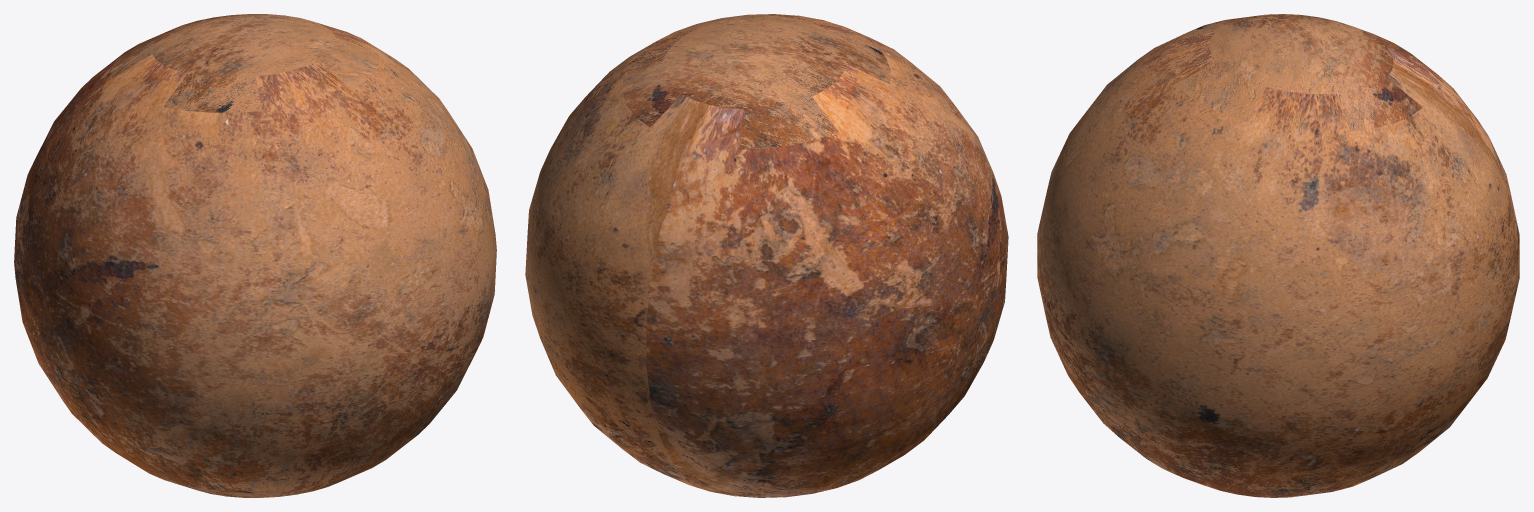
The model's file is Ball.FBX.
The picture shows the model from 3 angles, left to right: view 1: azimuth 30°, elevation 25°; view 2: azimuth 150°, elevation 25°; view 3: azimuth 270°, elevation 25°; orthographic projection.
Visible parts, largest first — view 1: Sphere001; view 2: Sphere001; view 3: Sphere001.
Part boxes in pixels (<box>): Sphere001: <box>14,14,496,497</box>; Sphere001: <box>525,14,1008,497</box>; Sphere001: <box>1037,14,1519,497</box>.
Bounding box in the file's own units: 78.24 × 77.9 × 77.9.
Materials: 1 (1 with a texture image).
